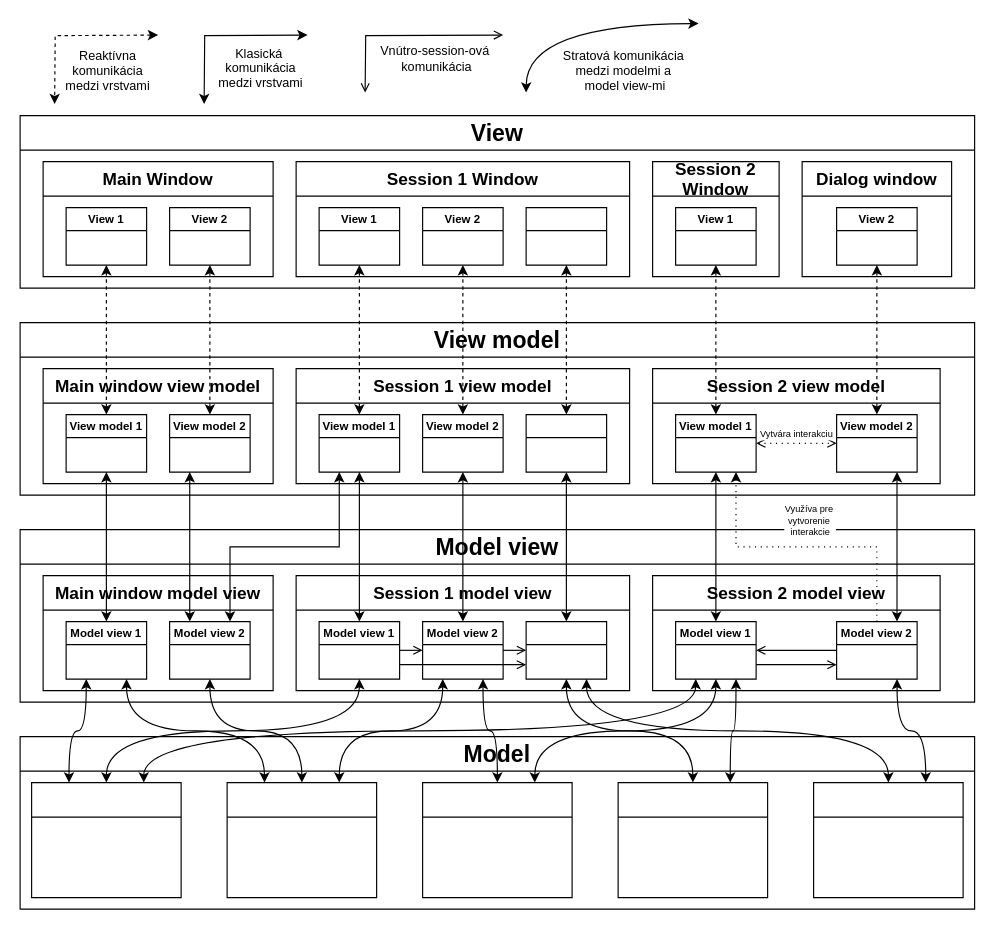
Image size: 995x930. Some labels were removed from this diagram. The centre of each missing label's shape, as x and y in pixels:
"Manager 1" goes at point 105,839.
"Manager 2" goes at point 301,839.
"Manager 3" goes at point 496,839.
"Manager 4" goes at point 692,839.
"Manager 5" goes at point 887,839.
"Model view 3" goes at point 566,649.
"View 3" goes at point 566,235.
"View model 3" goes at point 566,442.
